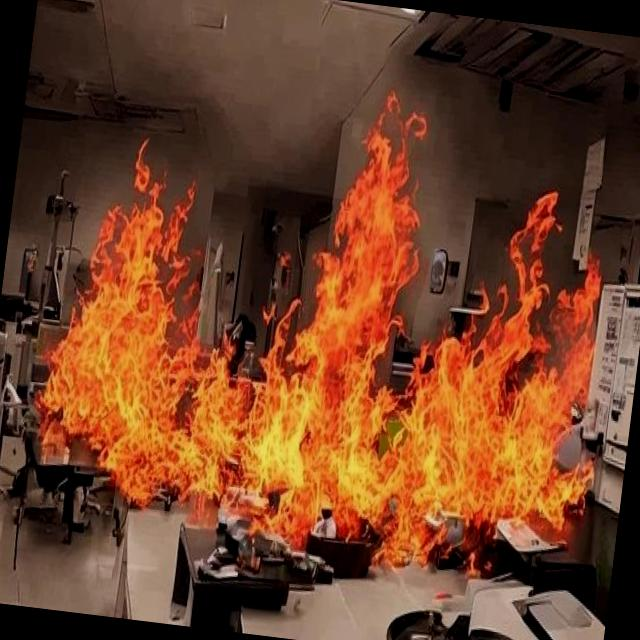fire: (12, 89, 634, 568)
